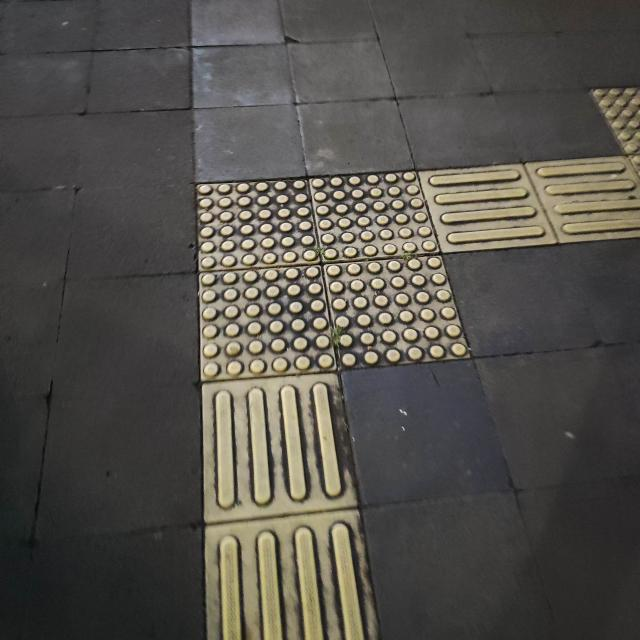kanan: (155, 122, 555, 403)
